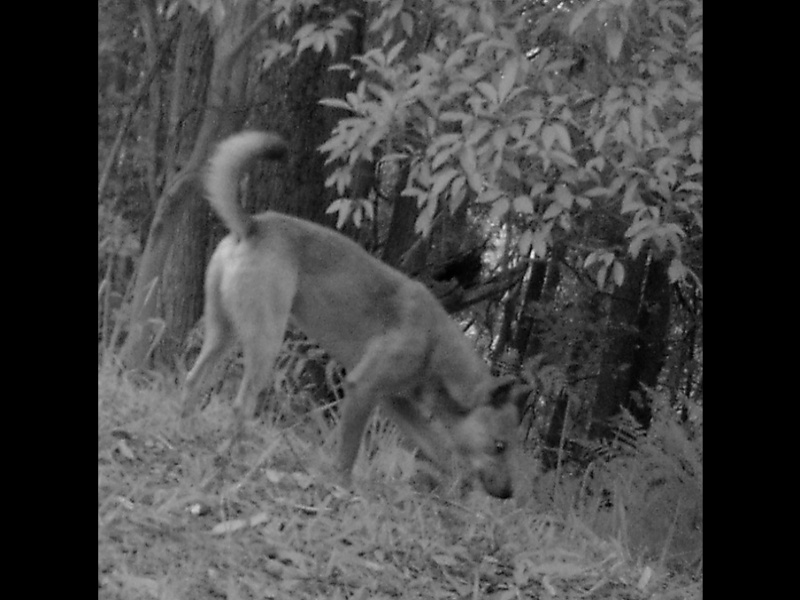dog: (181, 126, 529, 510)
